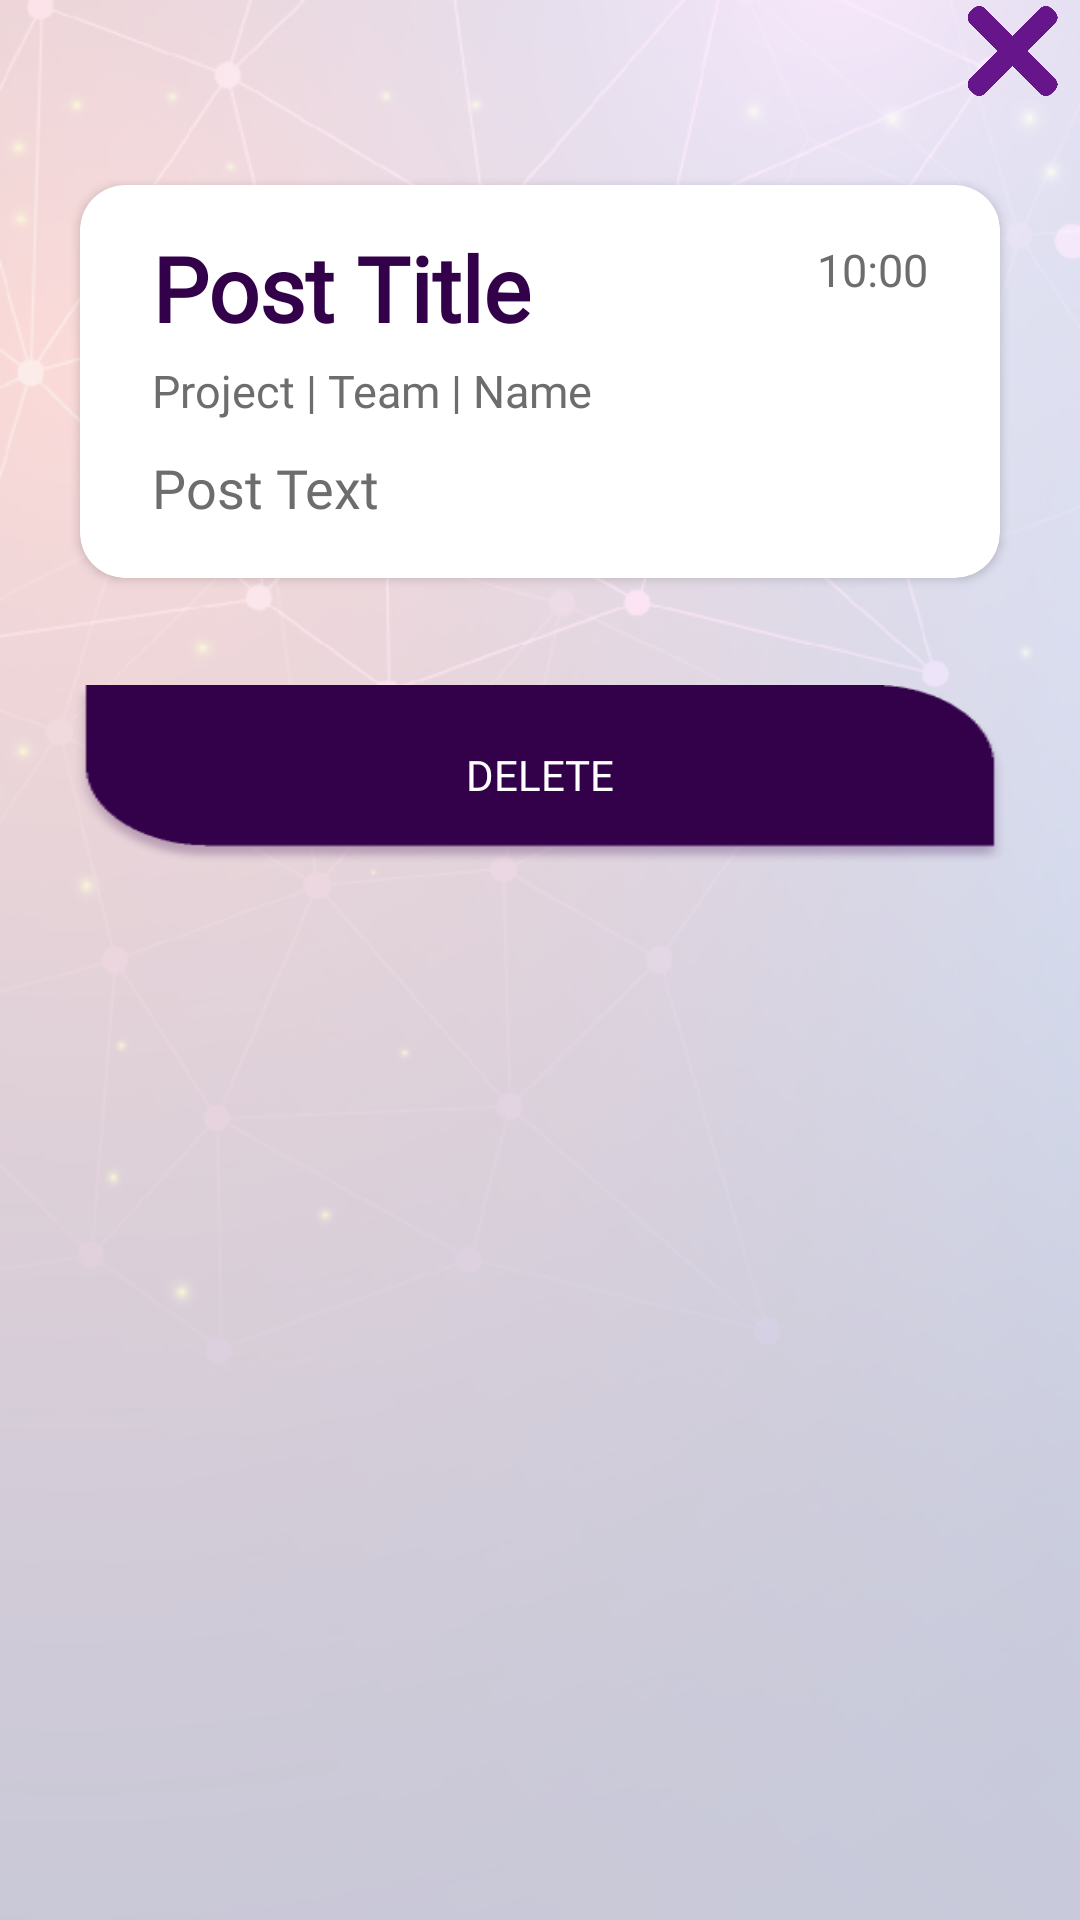

Locate icon controls on the screen. Image size 1080px x 1920px, boxes as bbox=[x1, y1, x2, y2].
close: bbox=[968, 6, 1058, 96]
